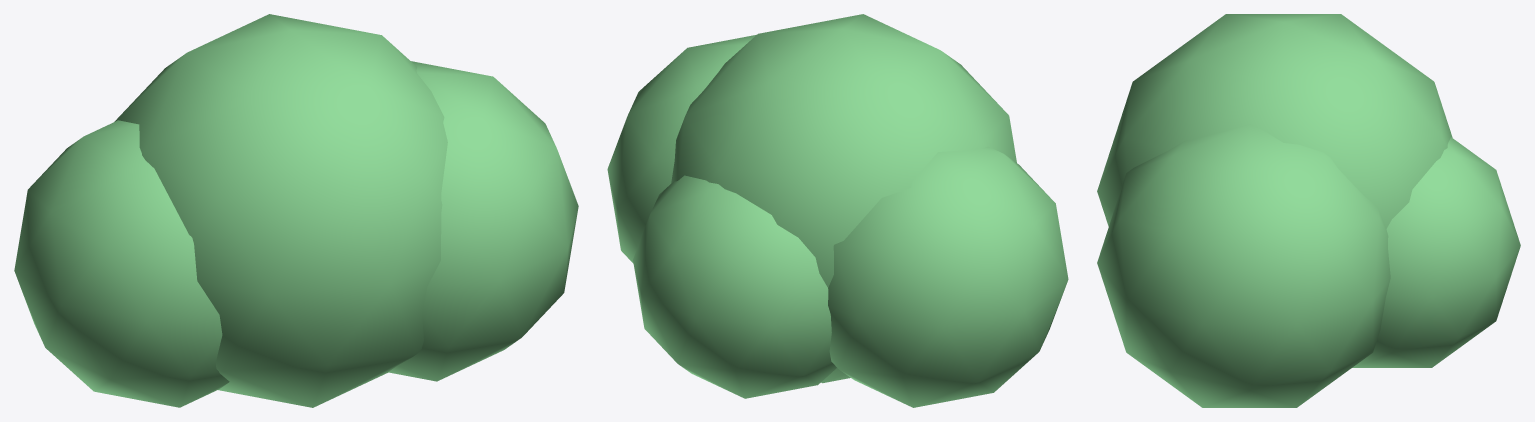
File: bush_stylized.glb
3 views of the same model, side by side, from view 1: azimuth 30°, elevation 25°; view 2: azimuth 150°, elevation 25°; view 3: azimuth 270°, elevation 25° (orthographic). The views are drawn at different scales.
Parts seen in each view (by area): view 1: BushPuff_0, BushPuff_1, BushPuff_2; view 2: BushPuff_0, BushPuff_1, BushPuff_3, BushPuff_2; view 3: BushPuff_2, BushPuff_0, BushPuff_3.
Part boxes in pixels (x1,y1,x2,y2): BushPuff_0: (114, 14, 447, 407); BushPuff_1: (14, 120, 229, 407); BushPuff_2: (388, 61, 578, 381); BushPuff_0: (671, 14, 1016, 383); BushPuff_1: (828, 146, 1068, 407); BushPuff_3: (633, 175, 836, 398); BushPuff_2: (607, 35, 755, 263); BushPuff_2: (1097, 124, 1390, 407); BushPuff_0: (1097, 14, 1452, 228); BushPuff_3: (1352, 137, 1520, 367).
Size of the model in its own units: 1.53 by 1.1 by 1.25.
